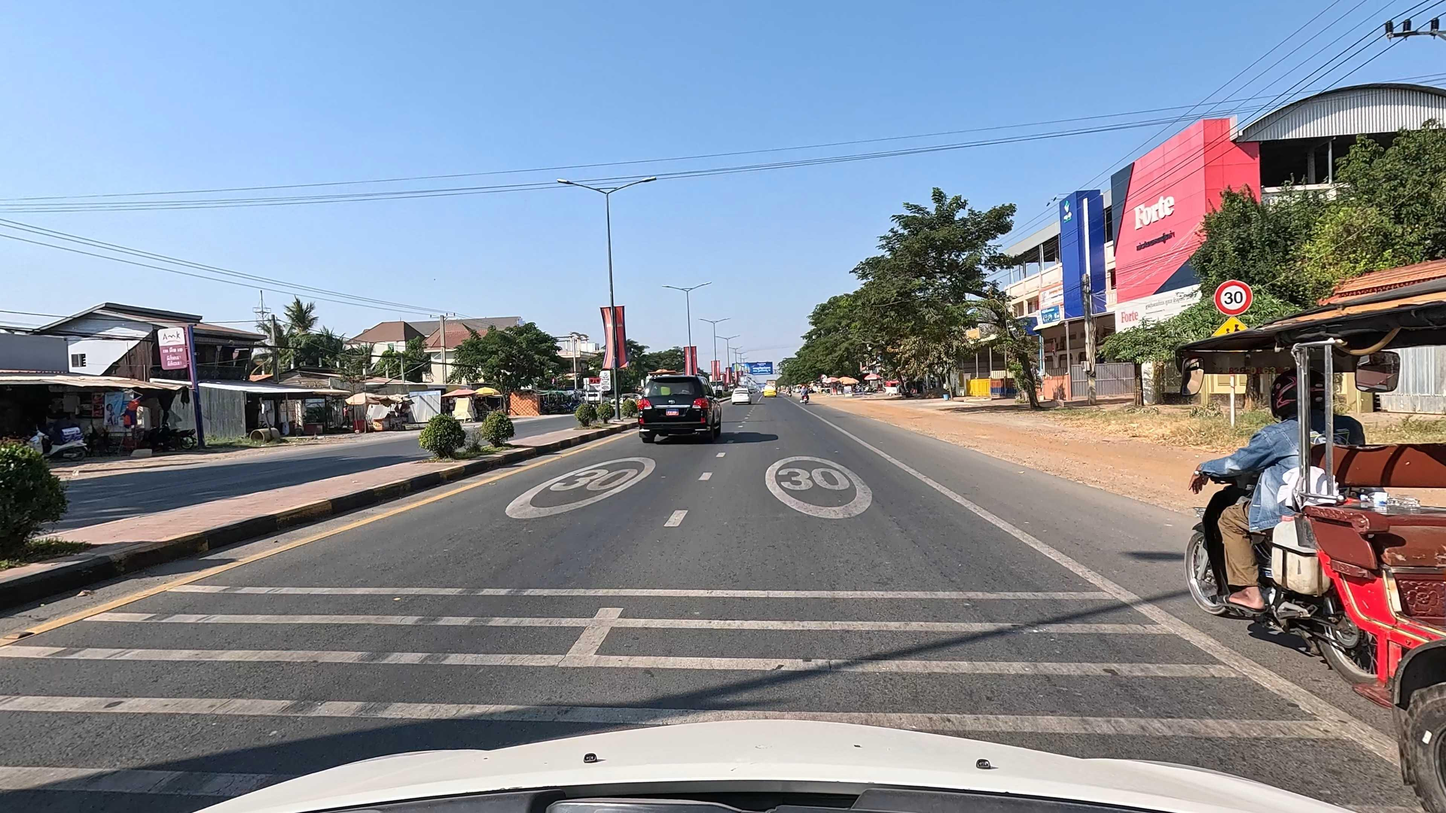school_zone: (1211, 315, 1250, 339)
speed_limit_30: (1211, 278, 1253, 315)
